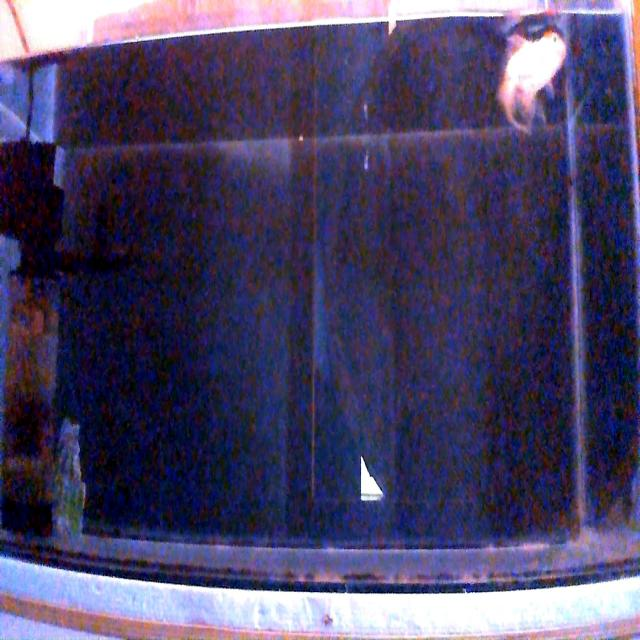fish: (498, 24, 568, 133)
